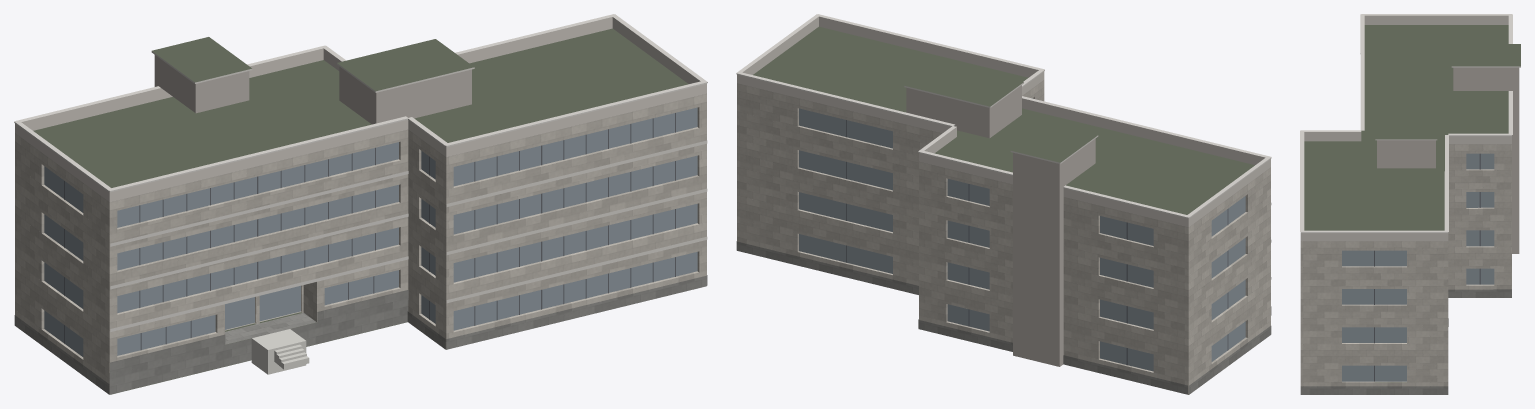
The picture shows the model from 3 angles, left to right: view 1: azimuth 30°, elevation 25°; view 2: azimuth 150°, elevation 25°; view 3: azimuth 270°, elevation 25°; orthographic projection. The views are drawn at different scales.
Visible parts, largest first — view 1: b922__wall, b922__glass, b922__roof, b922__base, b922__parapet, b922__trim, b922__wall2, b922__frame, b922__entranceStair; view 2: b922__wall, b922__roof, b922__glass, b922__wall2, b922__parapet, b922__base, b922__trim, b922__frame; view 3: b922__roof, b922__wall, b922__glass, b922__wall2, b922__parapet, b922__trim, b922__base.
Part boxes in pixels (x1,y1,x2,y2): b922__wall: [15, 93, 706, 394]; b922__glass: [44, 107, 697, 356]; b922__roof: [33, 28, 688, 394]; b922__base: [14, 275, 707, 394]; b922__parapet: [15, 17, 706, 202]; b922__trim: [14, 14, 707, 331]; b922__wall2: [154, 55, 471, 124]; b922__frame: [64, 113, 675, 350]; b922__entranceStair: [251, 329, 309, 374]; b922__wall: [737, 80, 1270, 394]; b922__roof: [753, 26, 1254, 394]; b922__glass: [799, 98, 1245, 371]; b922__wall2: [906, 85, 1095, 366]; b922__parapet: [737, 16, 1270, 227]; b922__base: [736, 241, 1271, 394]; b922__trim: [736, 14, 1271, 279]; b922__frame: [846, 120, 1228, 365]; b922__roof: [1304, 25, 1520, 382]; b922__wall: [1300, 144, 1511, 386]; b922__glass: [1342, 153, 1494, 381]; b922__wall2: [1377, 67, 1519, 253]; b922__parapet: [1300, 15, 1511, 241]; b922__trim: [1300, 14, 1520, 233]; b922__base: [1300, 289, 1511, 394].
Size of the model in its own units: 43.93 by 17.88 by 18.79.
Materials: 10 (2 with a texture image).
